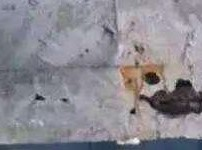Spalling: (138, 78, 202, 119), (142, 70, 160, 85), (33, 93, 46, 102), (128, 107, 137, 116), (59, 97, 69, 104)
